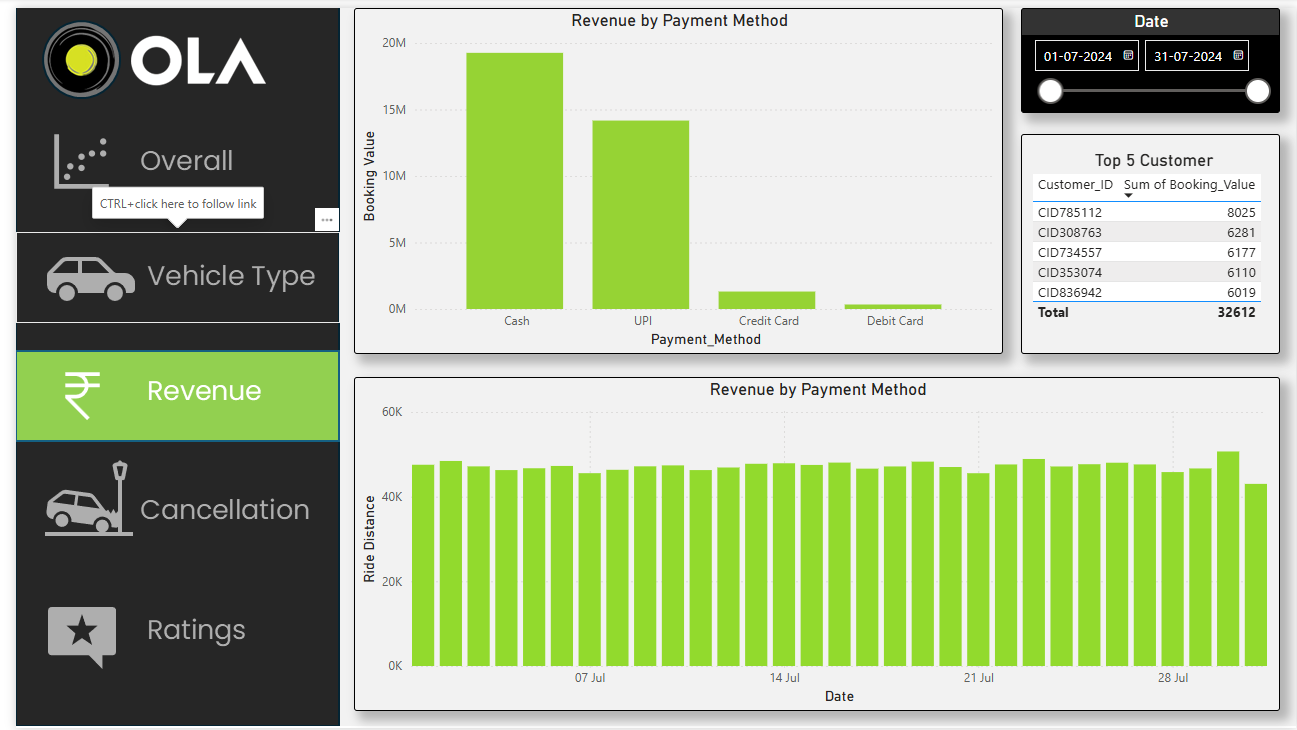

The page's visual inventory and layout, read from the dashboard file:
{"tool":"powerbi","page":{"name":"Revenue","canvas":[1280,720],"ordinal":2},"visuals":[{"type":"actionButton","box":[0,224.4,324.1,90.7],"z":0},{"type":"actionButton","box":[0,448.9,324.1,92.5],"z":1000},{"type":"actionButton","box":[0,580,324.1,92.5],"z":2000},{"type":"actionButton","box":[0,109.5,324.1,87.1],"z":3000},{"type":"columnChart","title":"Revenue by Payment Method","fields":{"Category":["Bookiings.Payment_Method"],"Y":["Sum(Bookiings.Booking_Value)"]},"box":[338,0,649,346],"z":4000},{"type":"columnChart","title":"Revenue by Payment Method","fields":{"Category":["Bookiings.Date"],"Y":["Sum(Bookiings.Ride_Distance)"]},"box":[338,369,926,334],"z":5000},{"type":"slicer","title":"Date","fields":{"Values":["Bookiings.Date"]},"box":[1005,0,259,105],"z":6000},{"type":"tableEx","title":"Top 5 Customer","fields":{"Values":["Bookiings.Customer_ID","Sum(Bookiings.Booking_Value)"]},"box":[1005,126,259,220],"z":7000}]}

Visuals, with their boxes in screenshot pixels (x1, y1, x2, y2), scaled from the page's 1280x720 canvas onto the 1297x730 screenshot:
actionButton: <box>0,228,328,319</box>
actionButton: <box>0,455,328,549</box>
actionButton: <box>0,588,328,682</box>
actionButton: <box>0,111,328,199</box>
"Revenue by Payment Method" columnChart: <box>342,0,1000,351</box>
"Revenue by Payment Method" columnChart: <box>342,374,1281,713</box>
"Date" slicer: <box>1018,0,1281,106</box>
"Top 5 Customer" tableEx: <box>1018,128,1281,351</box>
